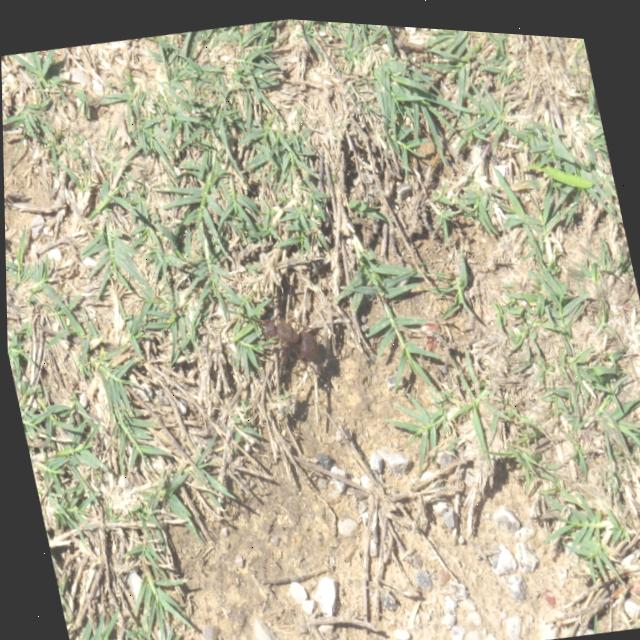Alive-Female-Dealate: (253, 303, 335, 389)
